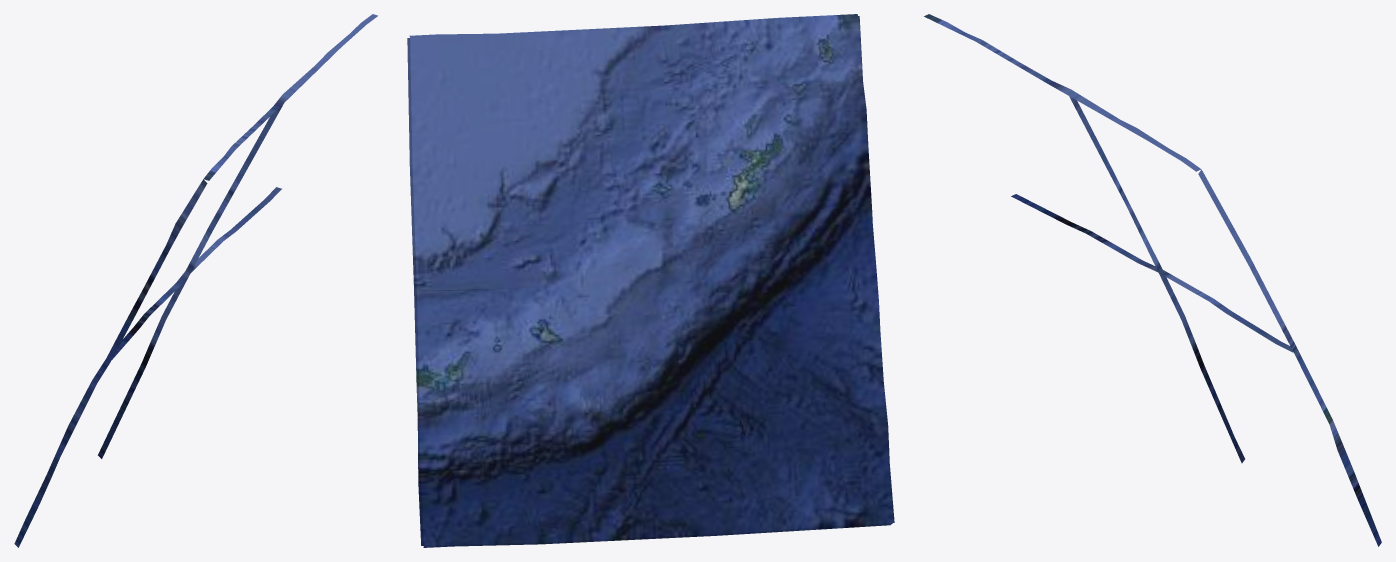
3 renders of one model, left to right at view 1: azimuth 30°, elevation 25°; view 2: azimuth 150°, elevation 25°; view 3: azimuth 270°, elevation 25°, orthographic. The views are drawn at different scales.
Size of the model in its own units: 618324 by 574785 by 555914.
1 material, 1 textured.
